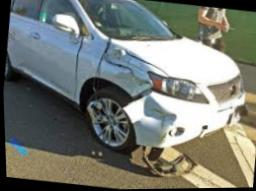Bumper: (120, 93, 234, 149)
Door: (11, 55, 39, 80)
Fender: (72, 37, 169, 103)
